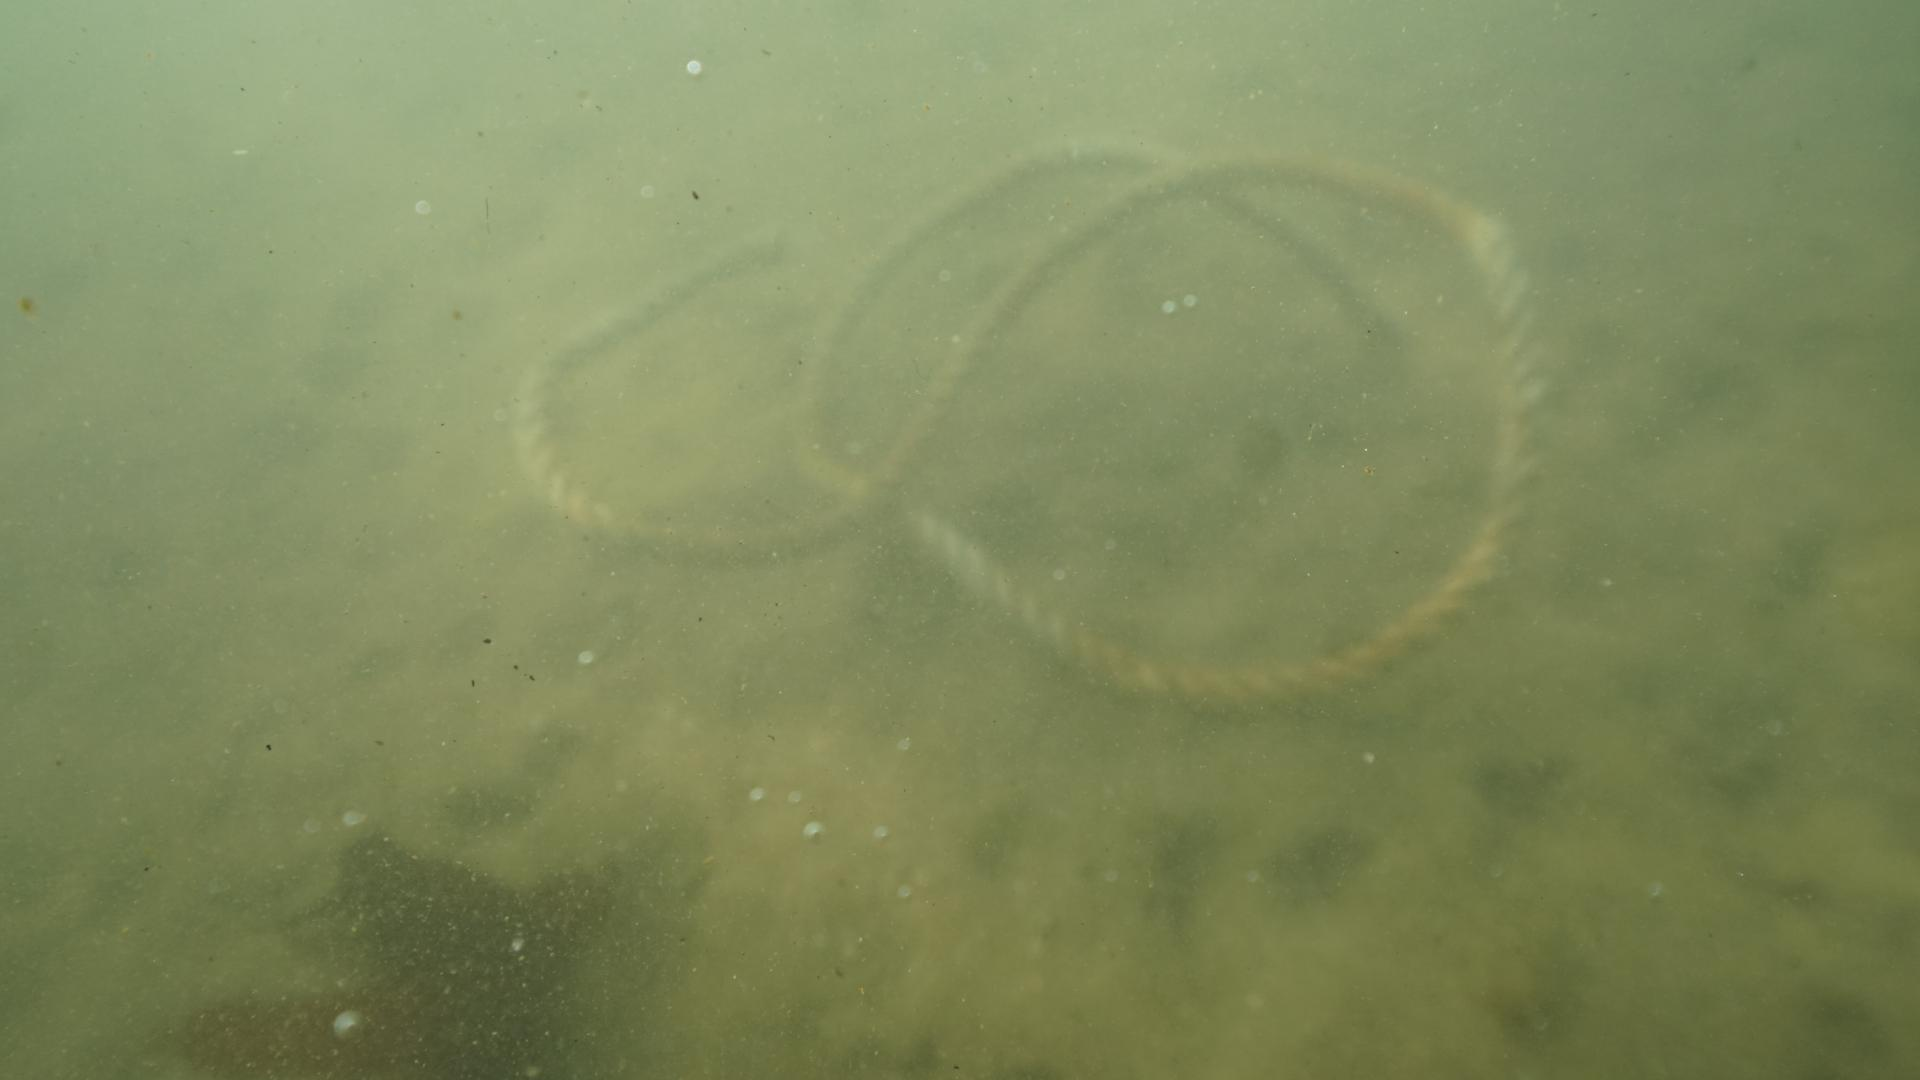rope: (502, 137, 1548, 717)
